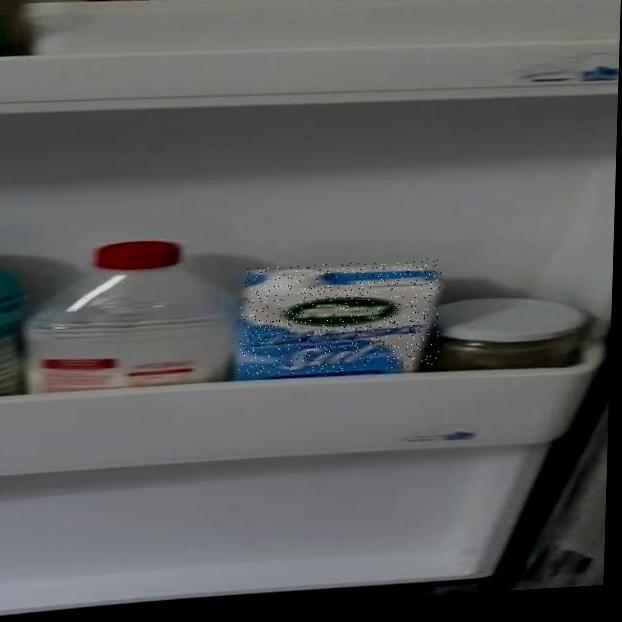milk: (238, 256, 441, 378)
